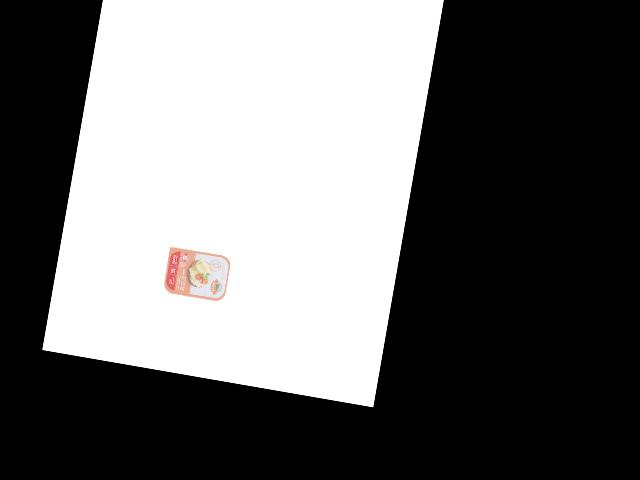cheese: (158, 244, 233, 305)
